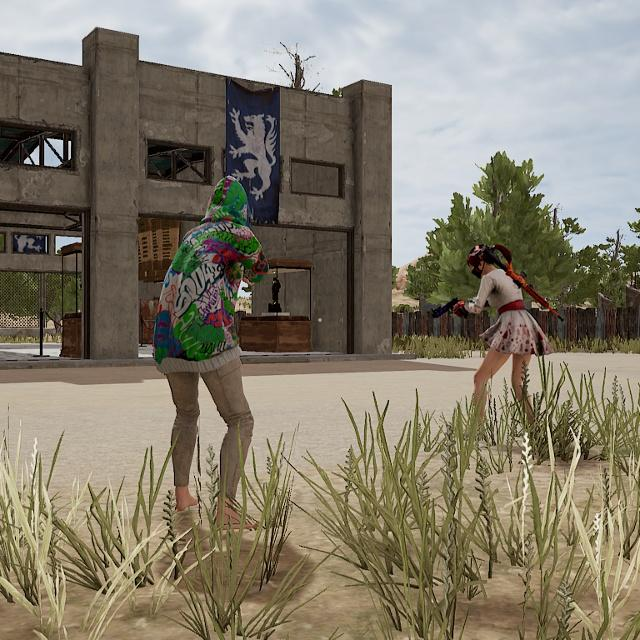head: (200, 170, 255, 227), (463, 239, 499, 280)
people: (144, 166, 284, 542), (446, 237, 552, 449)
